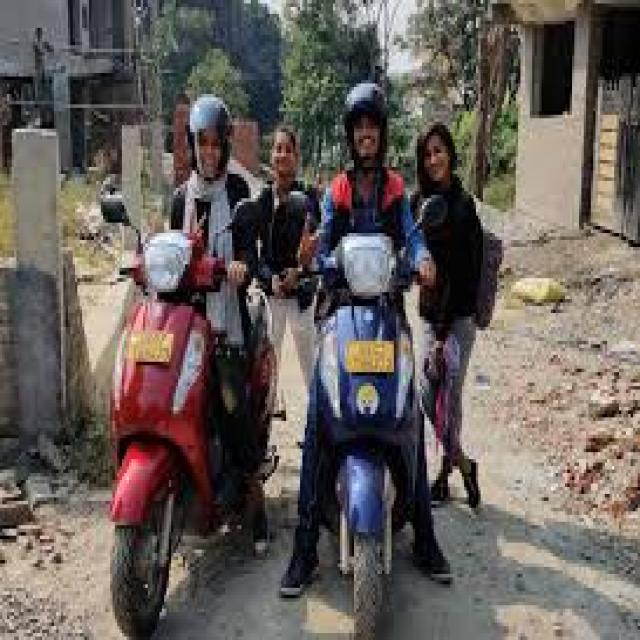Scooty: (84, 72, 283, 623), (300, 73, 430, 617)
